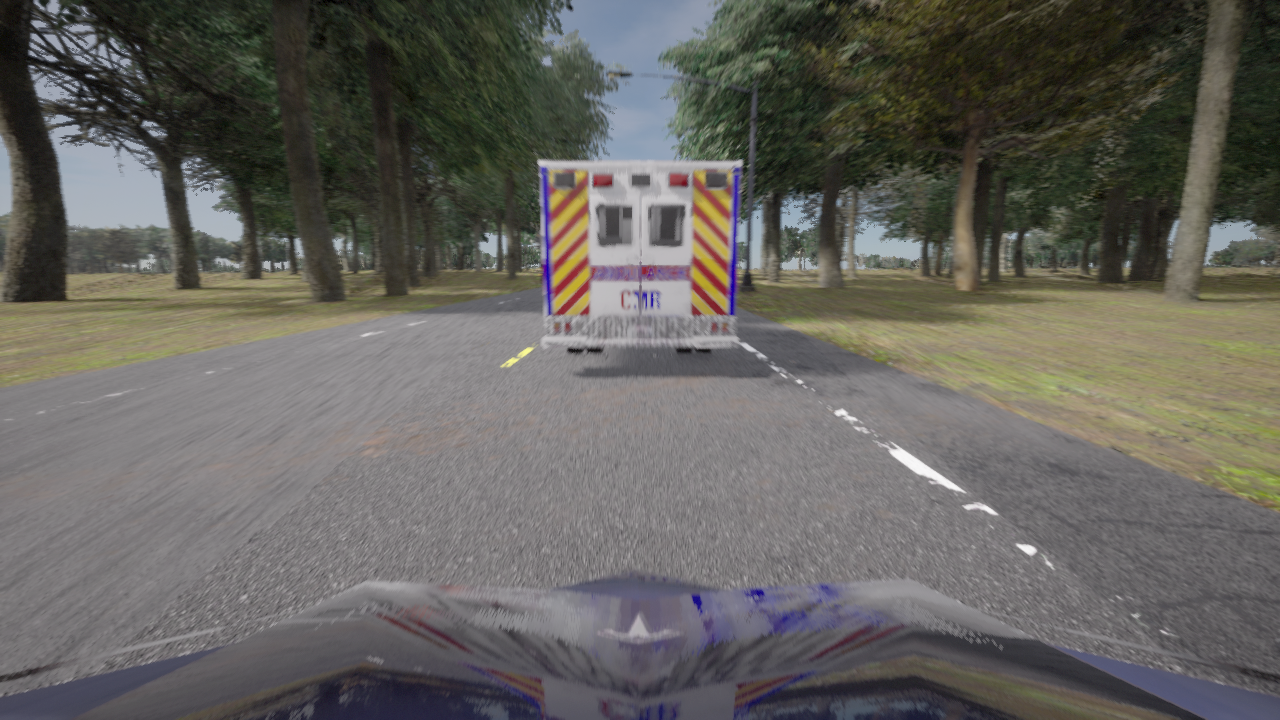cyclist: (0, 569, 1279, 719), (540, 161, 741, 354), (536, 229, 543, 286)
